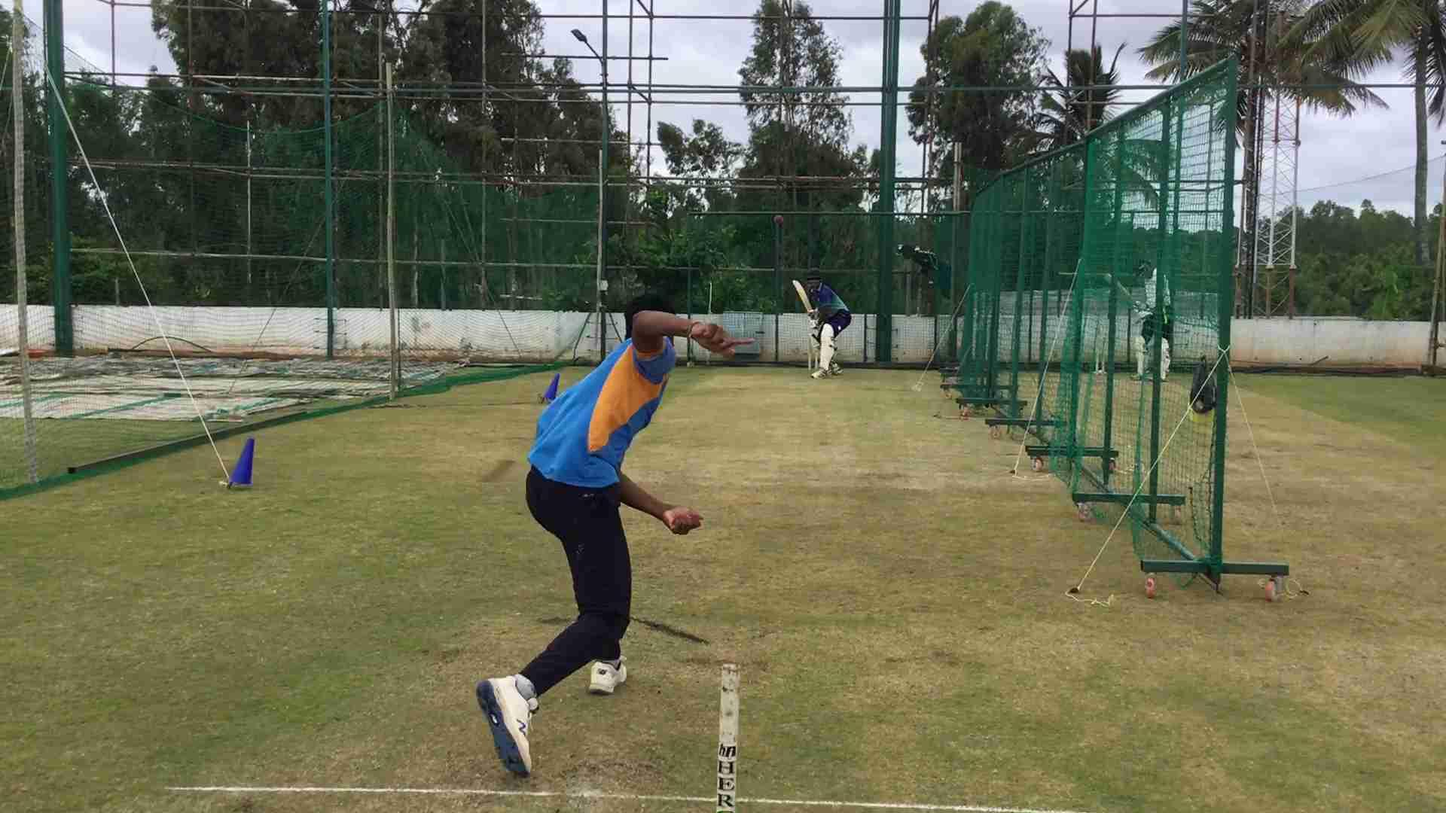batsman: (791, 264, 853, 385)
